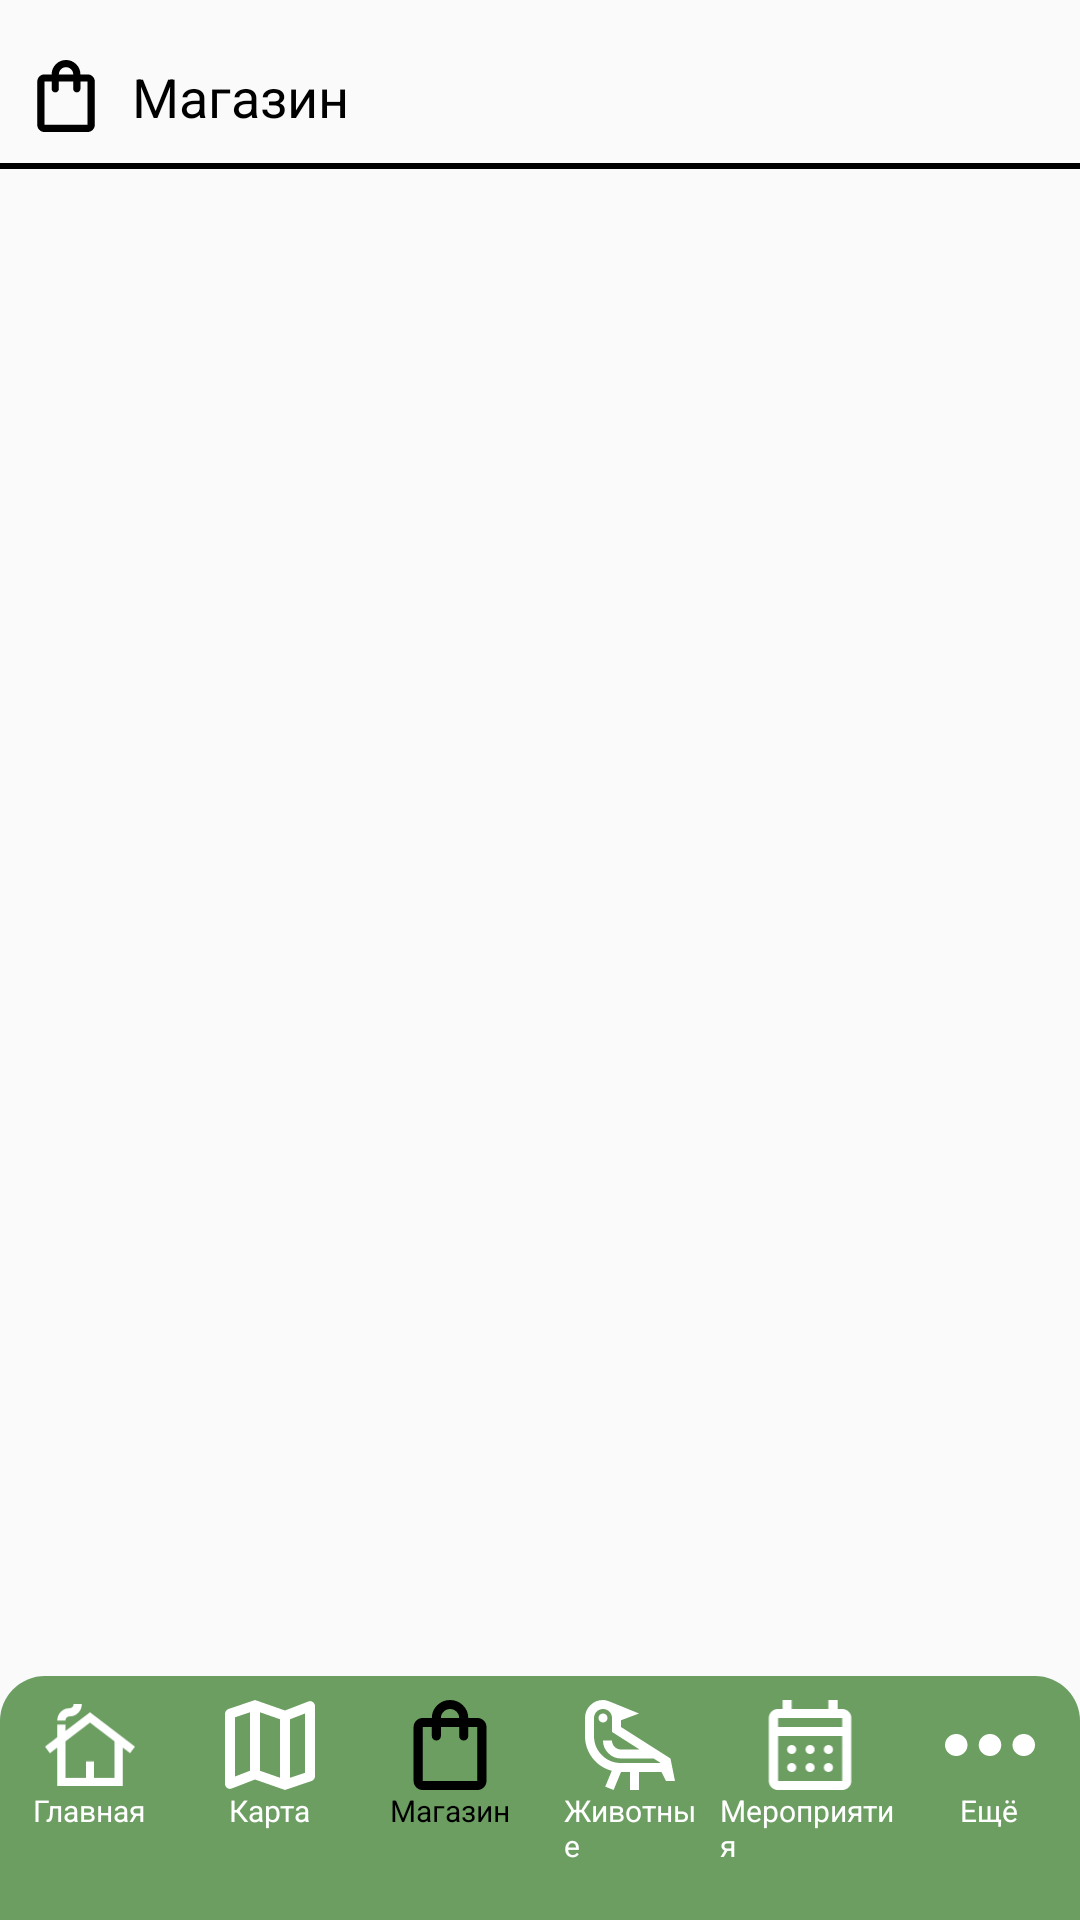

Locate icon controls on the screen. Image size 1080x1920, boxes as (x1, y1, x2, y2).
calendar: (768, 1700, 852, 1790)
